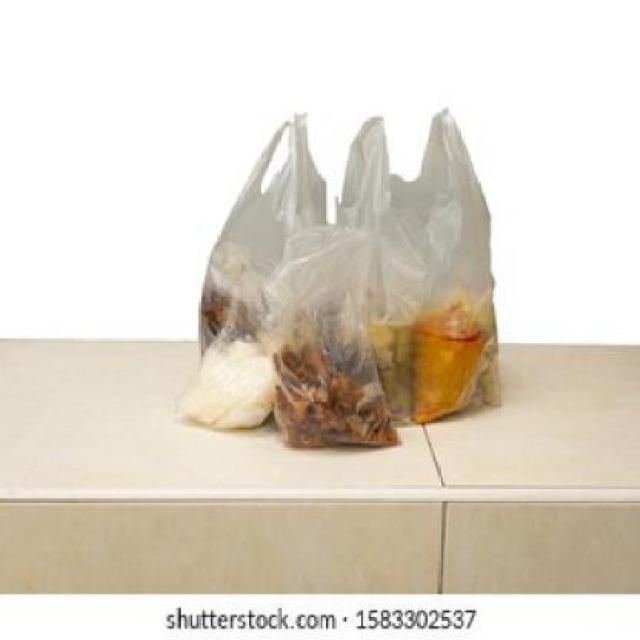plastic bag: (346, 104, 546, 436), (189, 91, 358, 366), (266, 235, 393, 484), (411, 274, 496, 484), (186, 280, 269, 475)
